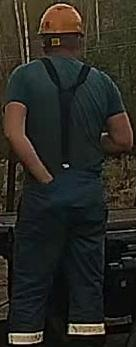helmet: (36, 2, 85, 36)
